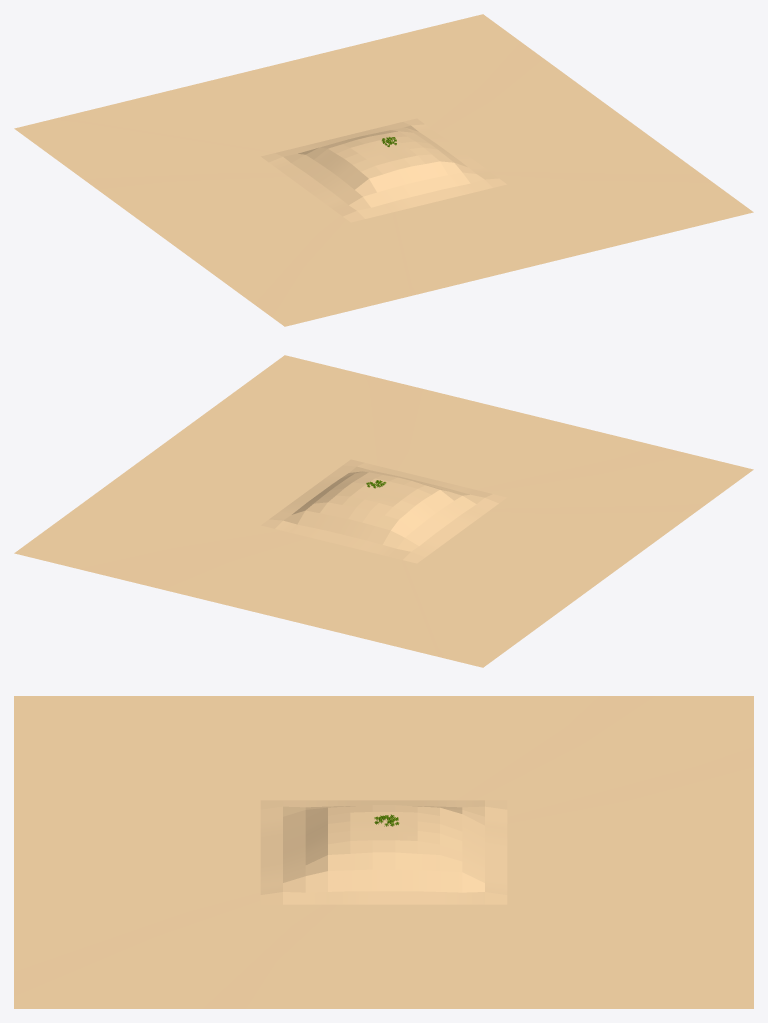
The model's file is Combined Mesh (root_ scene) 2_2.glb.
3 renders of one model, top to bottom at view 1: azimuth 30°, elevation 25°; view 2: azimuth 150°, elevation 25°; view 3: azimuth 270°, elevation 25°, orthographic. The views are drawn at different scales.
Parts seen in each view (by area): view 1: Combined Mesh (root_ scene) 2_2; view 2: Combined Mesh (root_ scene) 2_2; view 3: Combined Mesh (root_ scene) 2_2.
Part boxes in pixels (x1,y1,x2,y2): Combined Mesh (root_ scene) 2_2: (14, 14, 753, 326); Combined Mesh (root_ scene) 2_2: (14, 355, 753, 667); Combined Mesh (root_ scene) 2_2: (14, 696, 753, 1008).
Size of the model in its own units: 600 by 35.57 by 600.
1 material, 1 textured.
